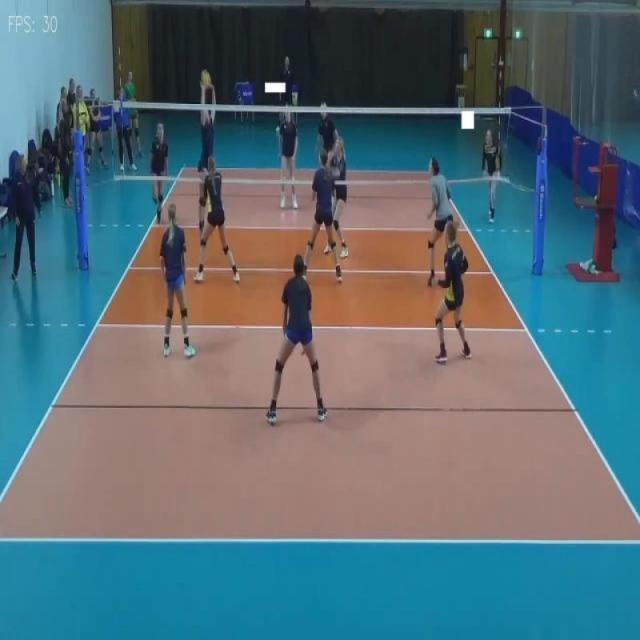volleyball: (200, 68, 212, 88)
